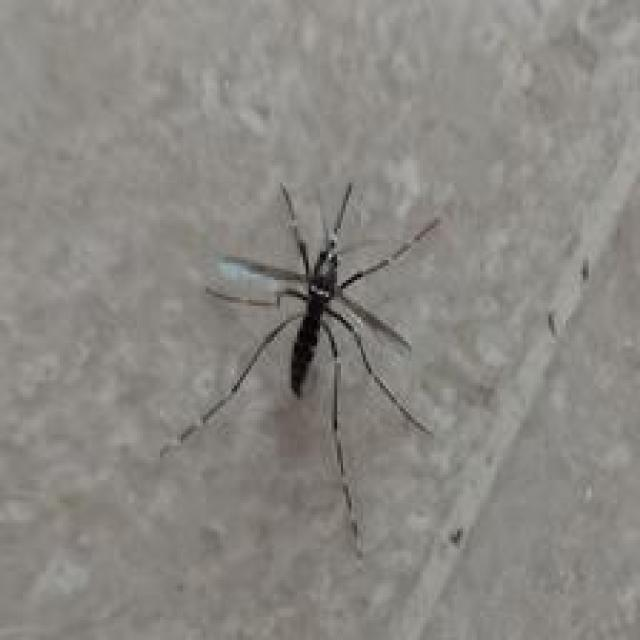Aedes albopictus: (160, 178, 443, 558)
